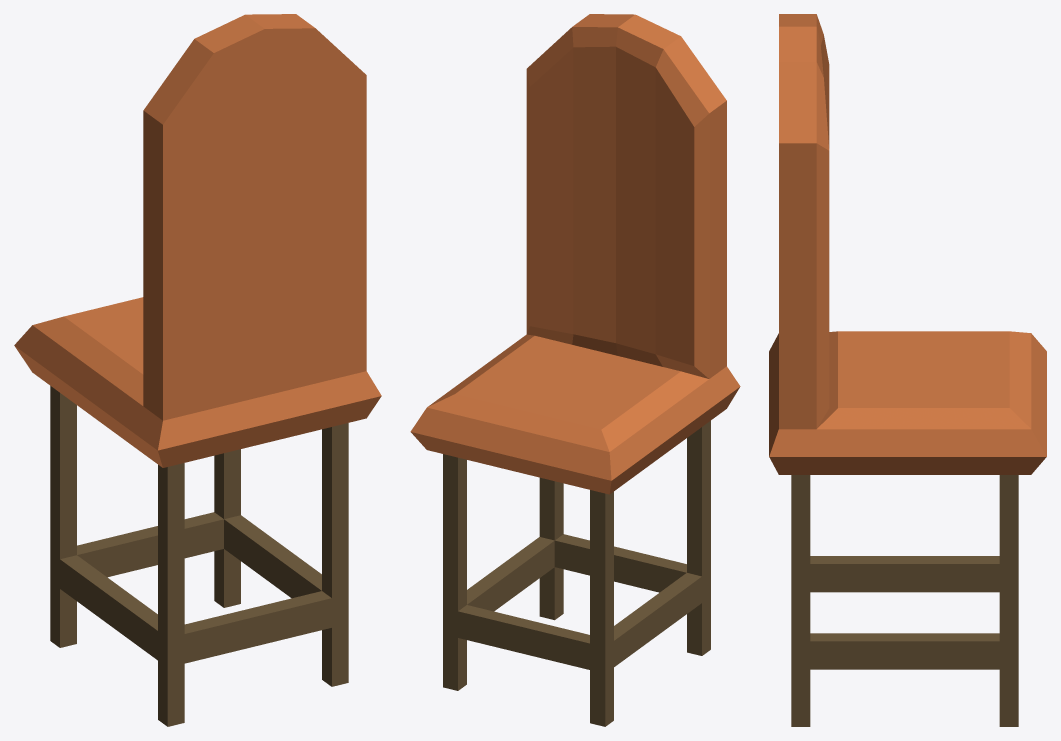
The model's file is Chair.fbx.
The picture shows the model from 3 angles, left to right: view 1: azimuth 30°, elevation 25°; view 2: azimuth 150°, elevation 25°; view 3: azimuth 270°, elevation 25°; orthographic projection. The views are drawn at different scales.
Parts seen in each view (by area): view 1: Chair; view 2: Chair; view 3: Chair.
Part boxes in pixels (left/top/right/bottom): Chair: left=14, top=14, right=381, bottom=726; Chair: left=410, top=14, right=740, bottom=726; Chair: left=769, top=14, right=1046, bottom=726.
Bounding box in the file's own units: 3.96 × 11.5 × 4.4.
